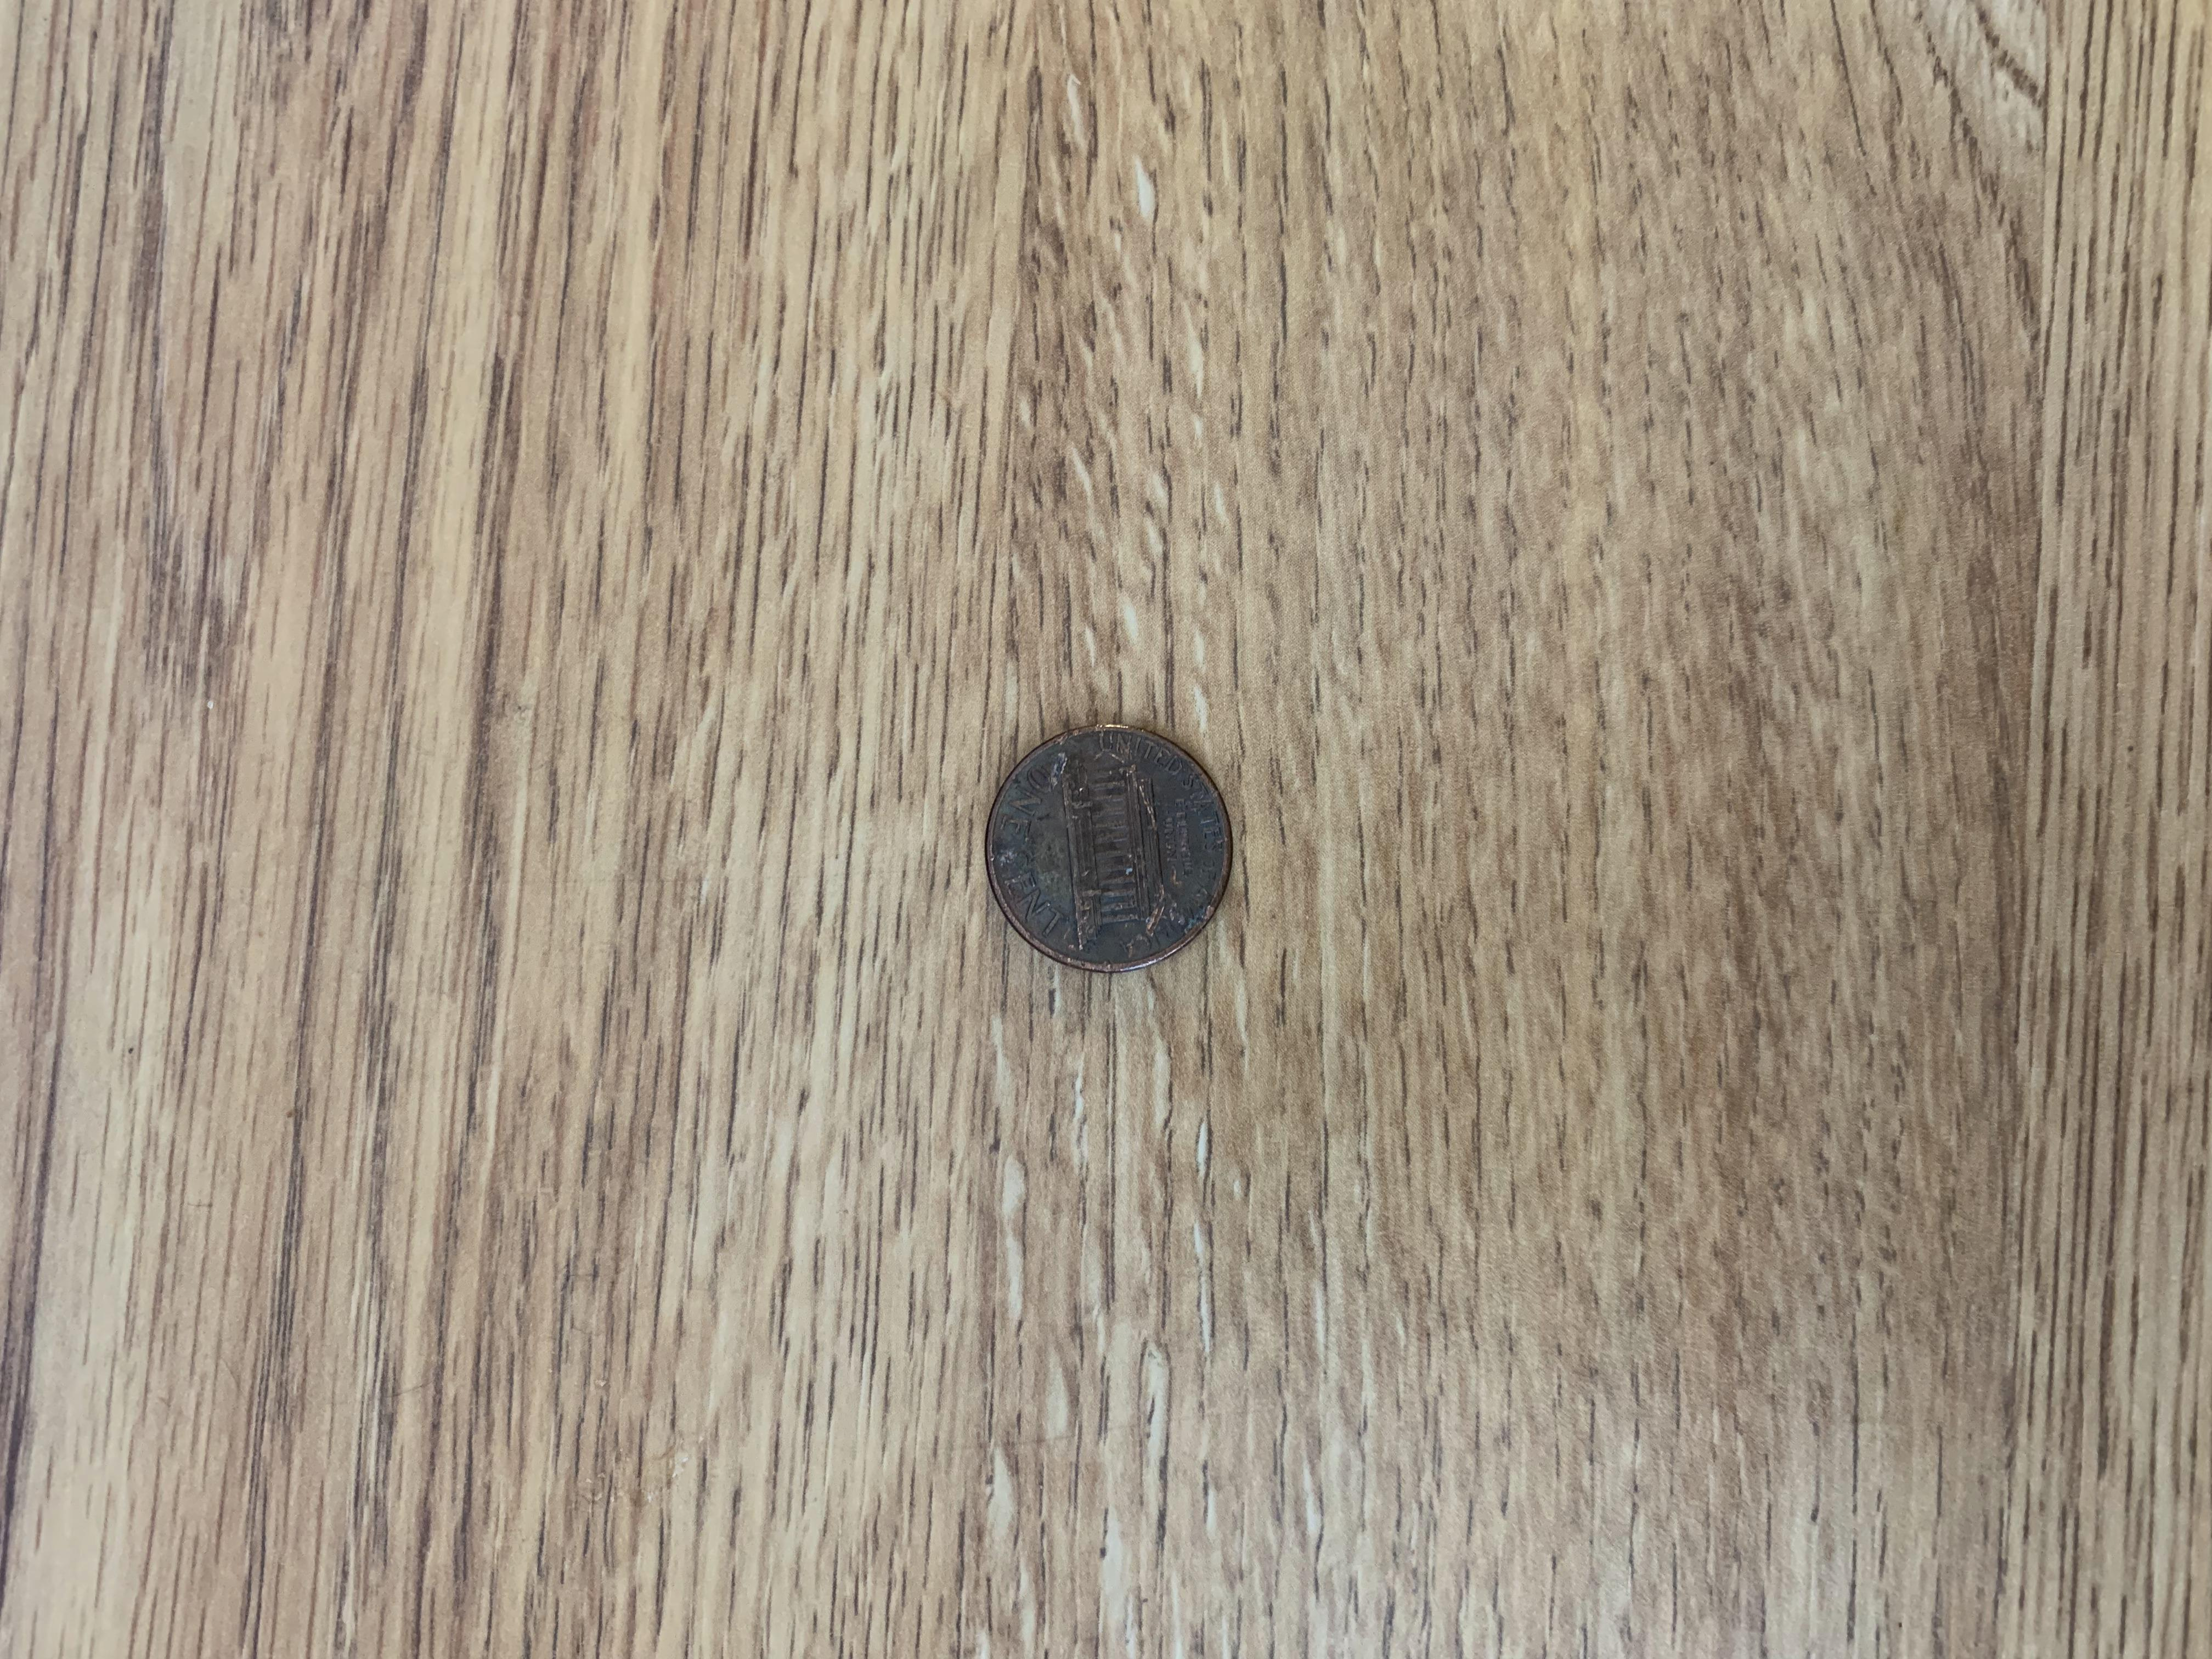Penny: (970, 714, 1238, 981)
